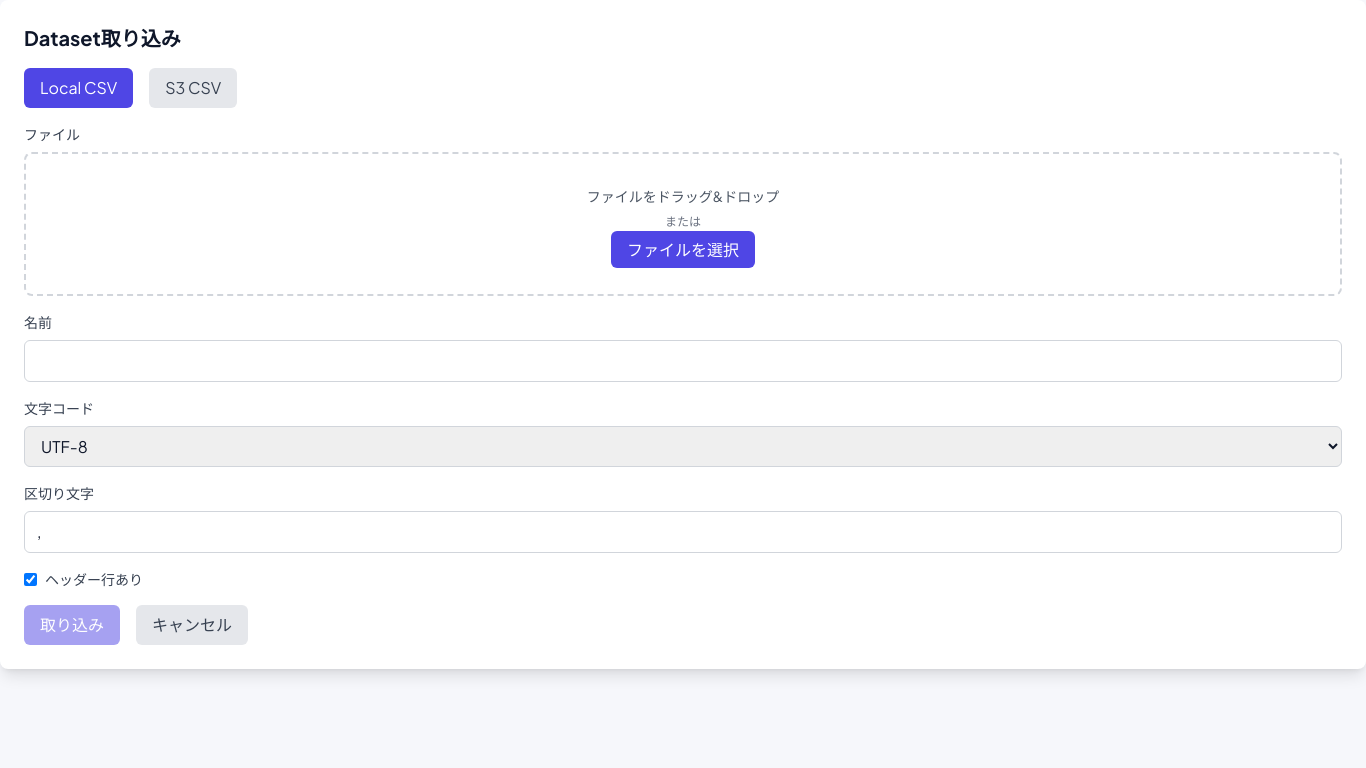
Test: DatasetImport › S3インポートに切り替える
Click the button "S3 CSV" at (193, 88), box [149,68,237,108]
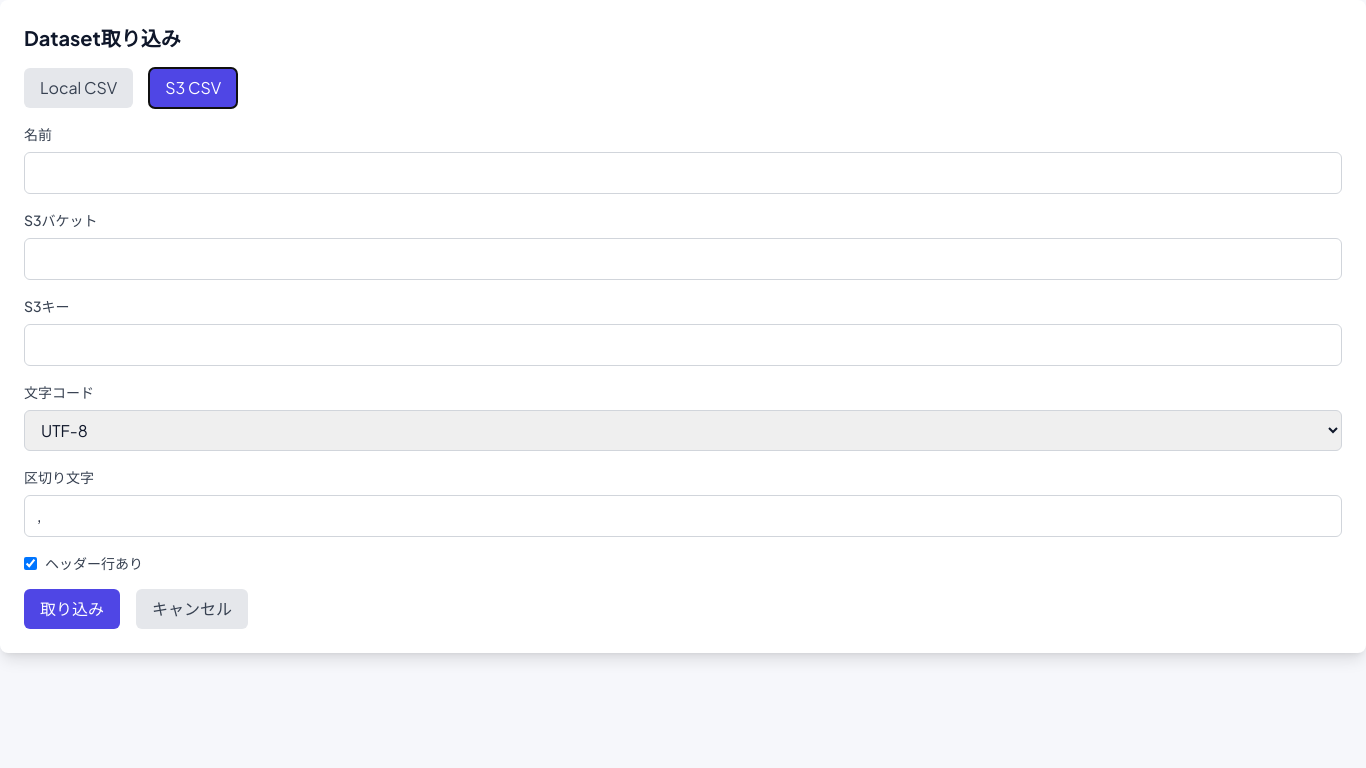
Expected: the text "S3バケット" is shown, [24,211,98,229]
Expected: the text "S3キー" is shown, [24,297,70,315]
